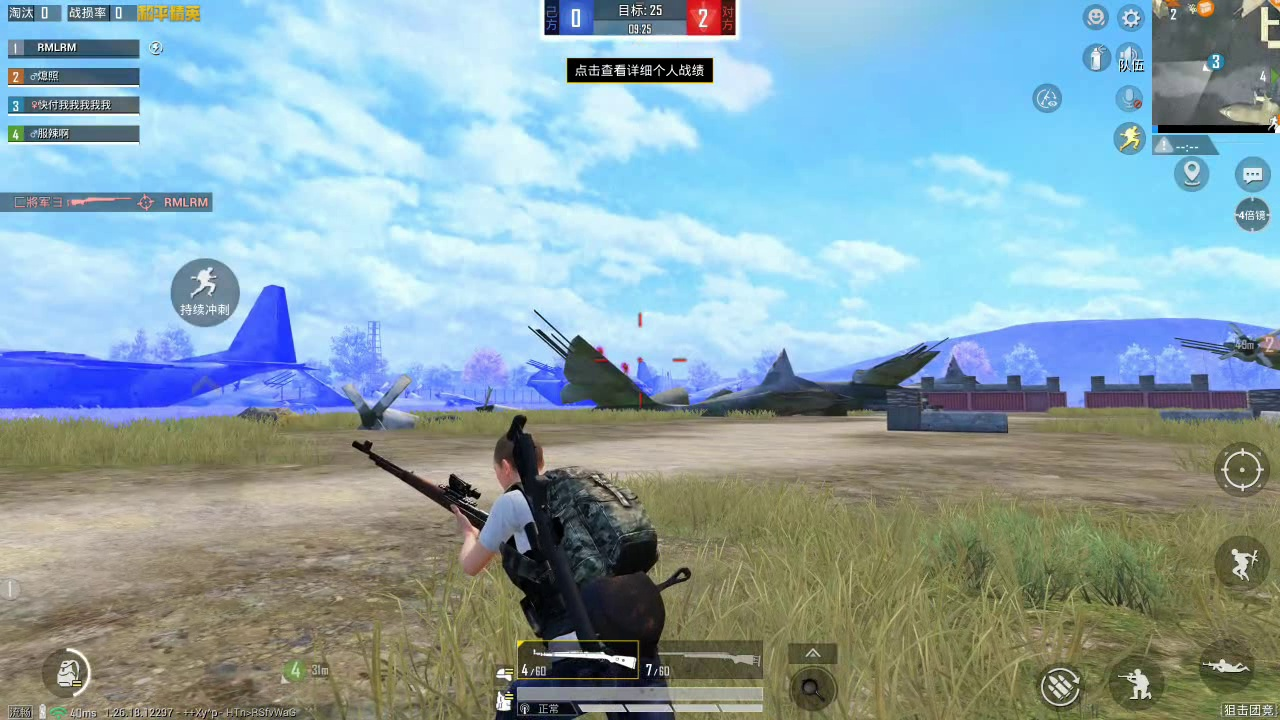enemy: (621, 362, 630, 376), (596, 346, 605, 354)
